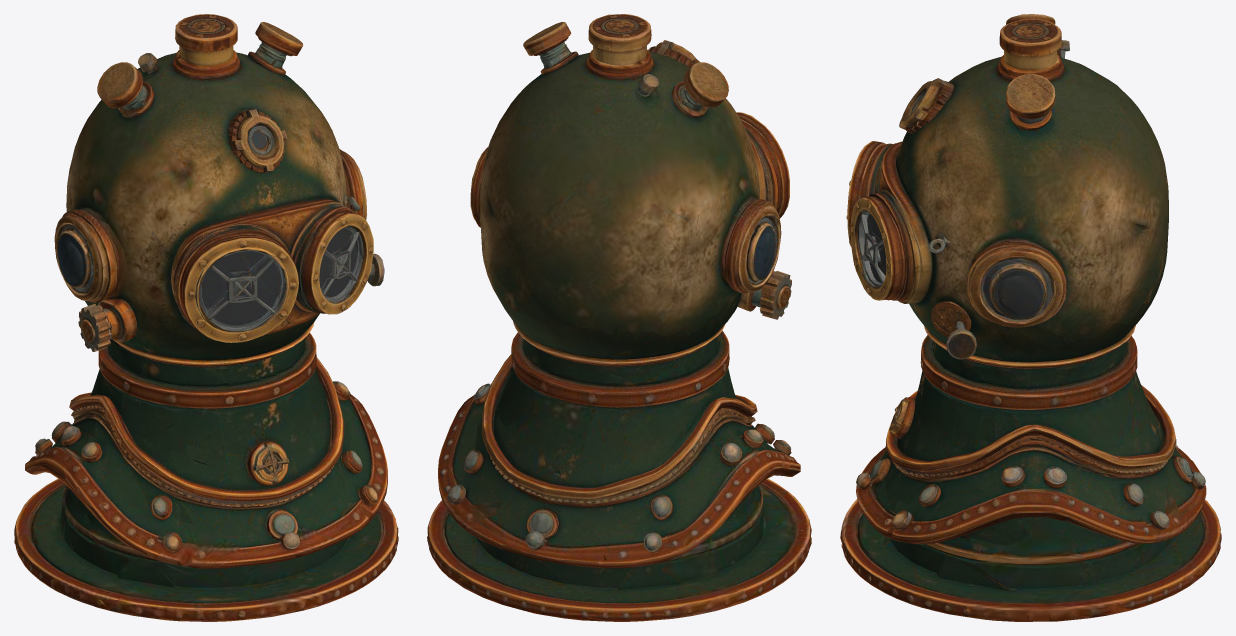
File: palombaro.glb
The picture shows the model from 3 angles, left to right: view 1: azimuth 30°, elevation 25°; view 2: azimuth 150°, elevation 25°; view 3: azimuth 270°, elevation 25°; orthographic projection.
Parts seen in each view (by area): view 1: Mesh_0; view 2: Mesh_0; view 3: Mesh_0.
Boxes of the visible parts, left/top/right/bottom form: Mesh_0: left=14, top=14, right=398, bottom=621; Mesh_0: left=427, top=14, right=811, bottom=621; Mesh_0: left=840, top=14, right=1221, bottom=621.
Size of the model in its own units: 0.9462 by 1.4 by 0.9453.
Materials: 1 (1 with a texture image).
